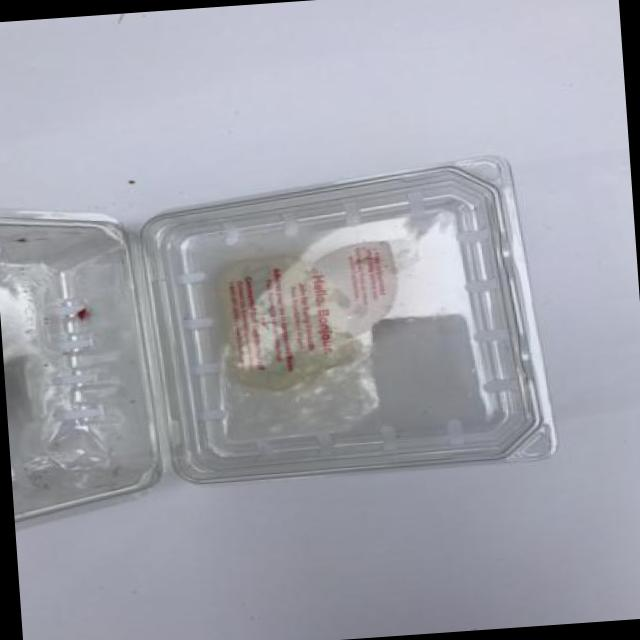plastic: (0, 145, 533, 514)
